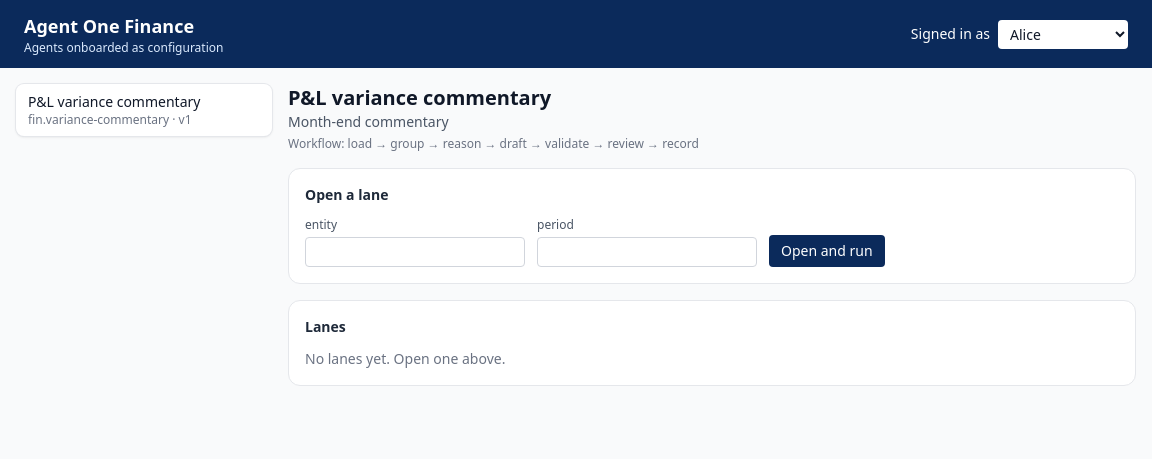
Test case: AofConsole › shows the server problems when opening fails
The image size is (1152, 459).
Type "US01" into the field labelled "entity". click: (415, 252)
box: top-left (305, 237), bottom-right (525, 267)
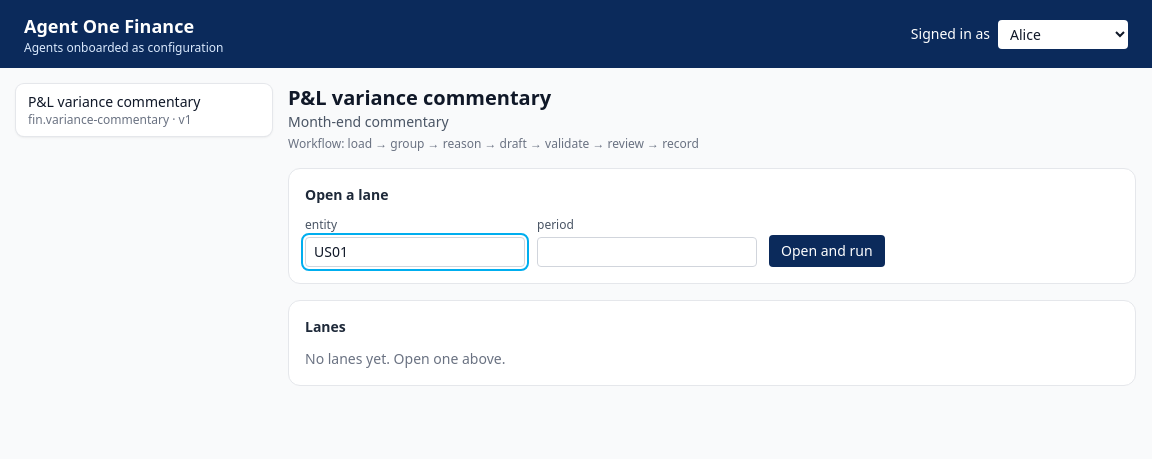
Type "2026-09" into the field labelled "period". click: (647, 252)
box: top-left (537, 237), bottom-right (757, 267)
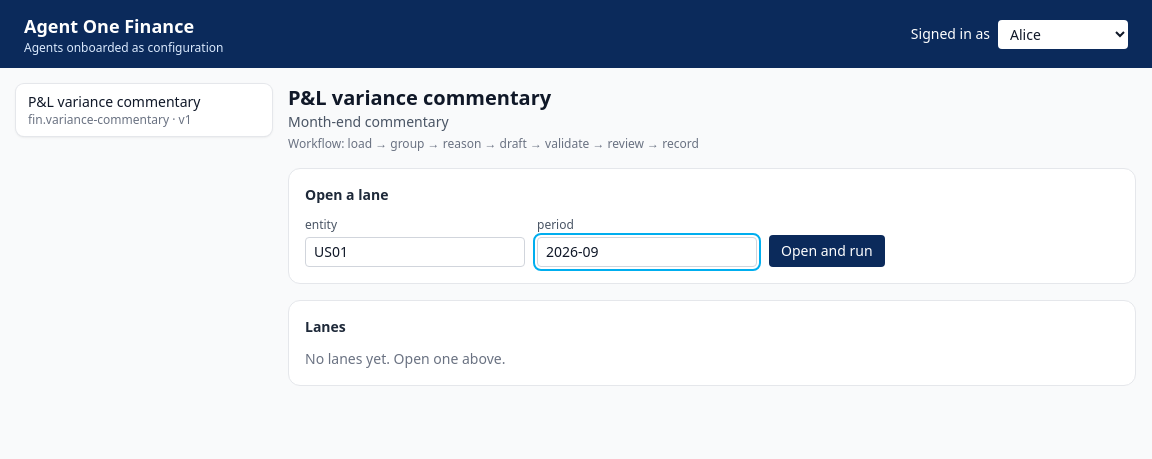
Click the button "Open and run". click: (827, 251)
box: top-left (769, 235), bottom-right (885, 267)
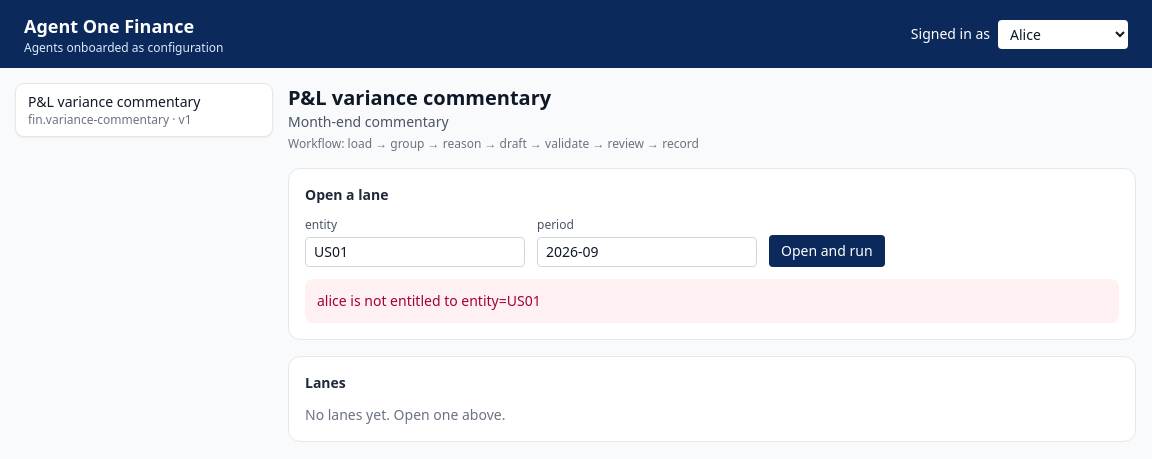
Check: the message shows "not entitled to entity=US01", box top-left (317, 291), bottom-right (541, 310)
